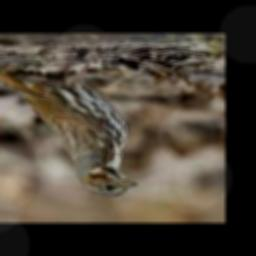Sparrow: (0, 57, 139, 197)
